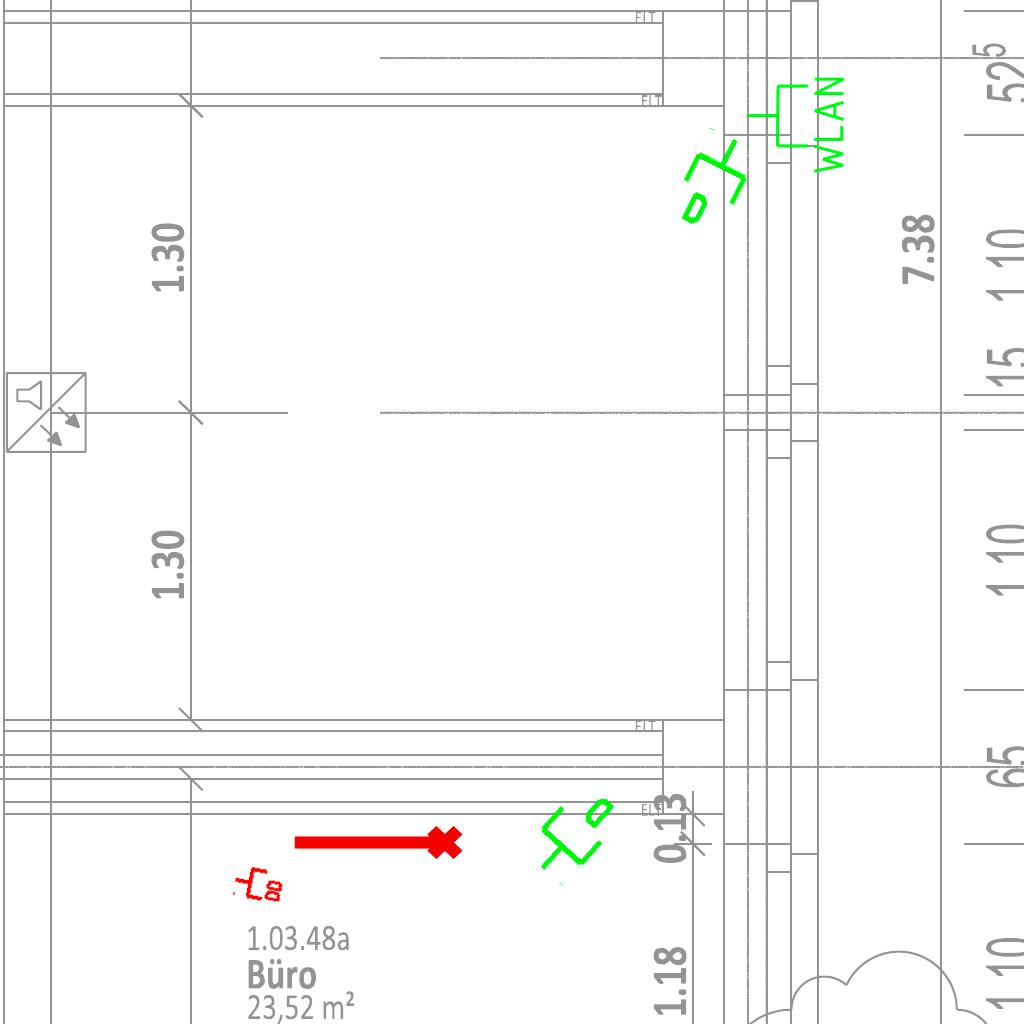ASR_Ansaugoeffnung: (289, 822, 465, 868)
Datenanschluss_einfach: (513, 771, 632, 893), (662, 122, 769, 244)
Datenanschluss_zweifach: (230, 861, 288, 906)
WLAN: (744, 73, 848, 178)
